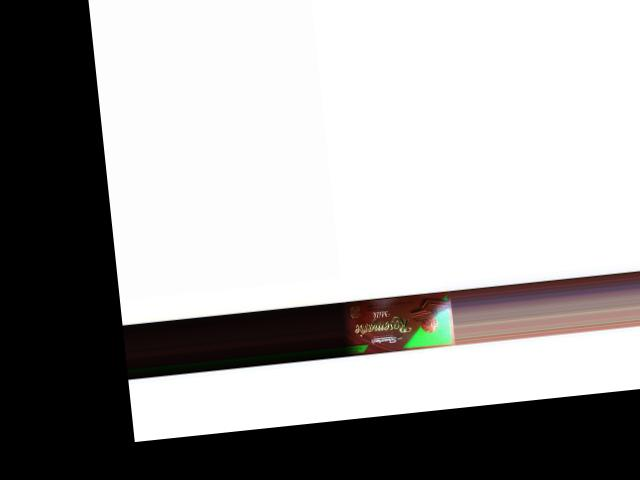chocolate: (338, 291, 453, 355)
